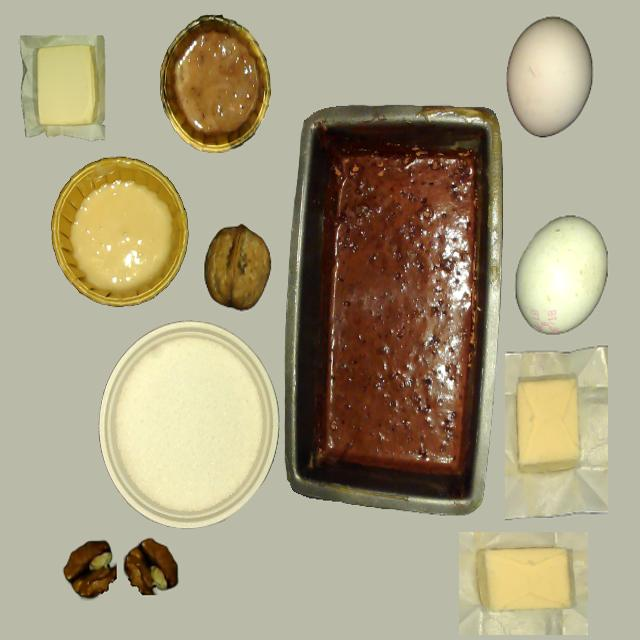Sugar: (114, 334, 263, 517)
Walnut: (204, 225, 271, 307)
